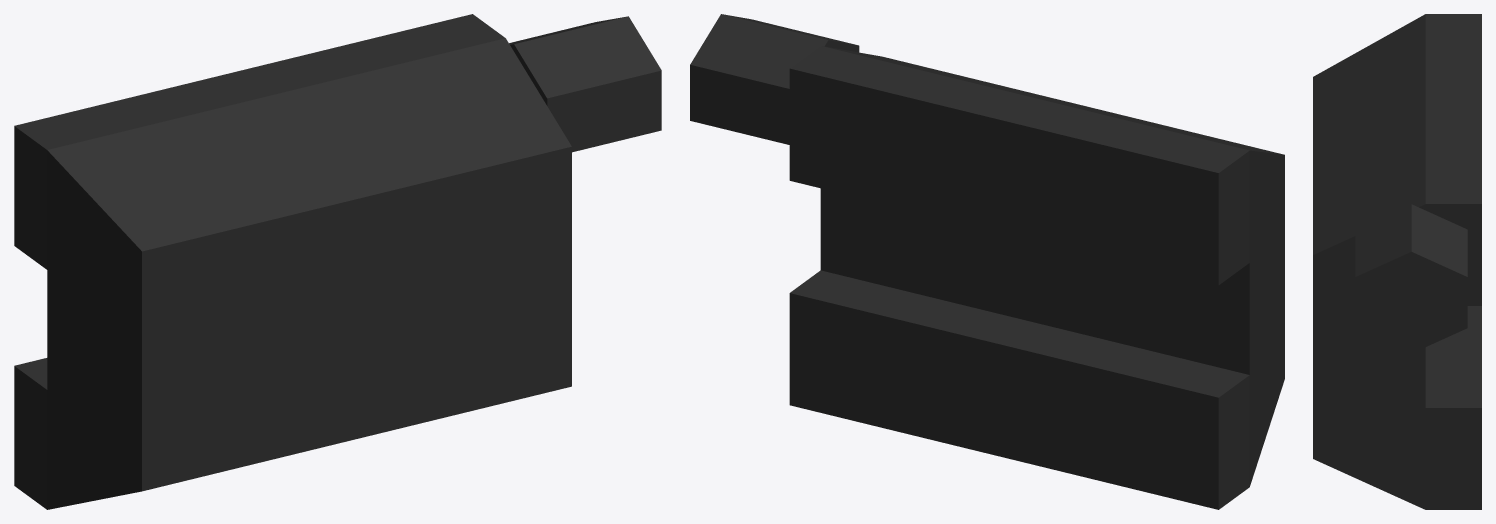
Rendered from laser.obj.
3 renders of one model, left to right at view 1: azimuth 30°, elevation 25°; view 2: azimuth 150°, elevation 25°; view 3: azimuth 270°, elevation 25°, orthographic. The views are drawn at different scales.
Visible parts, largest first — view 1: grip, grip2, grip4, grip1; view 2: grip1, grip2, grip, grip3; view 3: grip, grip2, grip1, grip3, grip4.
Part boxes in pixels (<box>): grip: <box>47,38,571,509</box>; grip2: <box>14,14,505,269</box>; grip4: <box>514,16,661,152</box>; grip1: <box>14,358,47,509</box>; grip1: <box>789,270,1249,509</box>; grip2: <box>789,46,1249,285</box>; grip: <box>820,46,1284,486</box>; grip3: <box>690,14,828,144</box>; grip: <box>1313,14,1425,509</box>; grip2: <box>1425,14,1481,305</box>; grip1: <box>1425,306,1481,509</box>; grip3: <box>1411,204,1467,353</box>; grip4: <box>1355,204,1411,353</box>.
Bounding box in the file's own units: 1 × 0.6 × 0.3.
